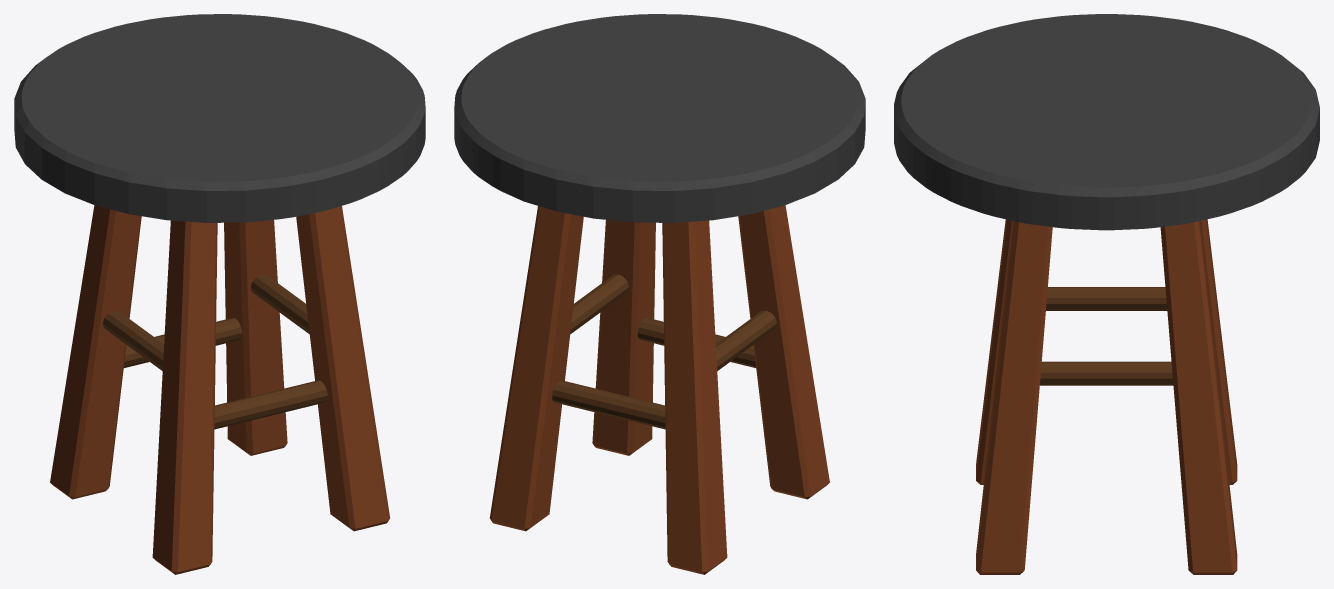
The model's file is Stool.fbx.
3 renders of one model, left to right at view 1: azimuth 30°, elevation 25°; view 2: azimuth 150°, elevation 25°; view 3: azimuth 270°, elevation 25°, orthographic. The views are drawn at different scales.
Visible parts, largest first — view 1: Seat, Leg 3, Leg 2, Leg 4, Leg 1, Bar 4, Bar 1, Bar 2, Bar 3; view 2: Seat, Leg 4, Leg 1, Leg 3, Leg 2, Bar 3, Bar 1, Bar 2, Bar 4; view 3: Seat, Leg 1, Leg 2, Bar 2, Bar 1, Leg 4, Leg 3.
Part boxes in pixels (x1,y1,x2,y2): Seat: (14,14,425,222); Leg 3: (152,220,217,574); Leg 2: (296,206,389,531); Leg 4: (50,205,141,499); Leg 1: (224,220,287,455); Bar 4: (214,380,327,429); Bar 1: (102,310,163,370); Bar 2: (251,274,309,333); Bar 3: (124,317,242,367); Seat: (454,14,865,222); Leg 4: (662,220,727,574); Leg 1: (490,206,583,531); Leg 3: (738,205,829,499); Leg 2: (592,220,655,455); Bar 3: (552,380,665,429); Bar 1: (716,310,777,370); Bar 2: (570,274,628,333); Bar 4: (637,317,755,367); Seat: (894,14,1319,230); Leg 1: (1160,221,1237,574); Leg 2: (976,221,1052,574); Bar 2: (1040,361,1173,385); Bar 1: (1046,287,1167,310); Leg 4: (1200,219,1237,484); Leg 3: (976,219,1012,484).
Bounding box in the file's own units: 200 × 218 × 200.
